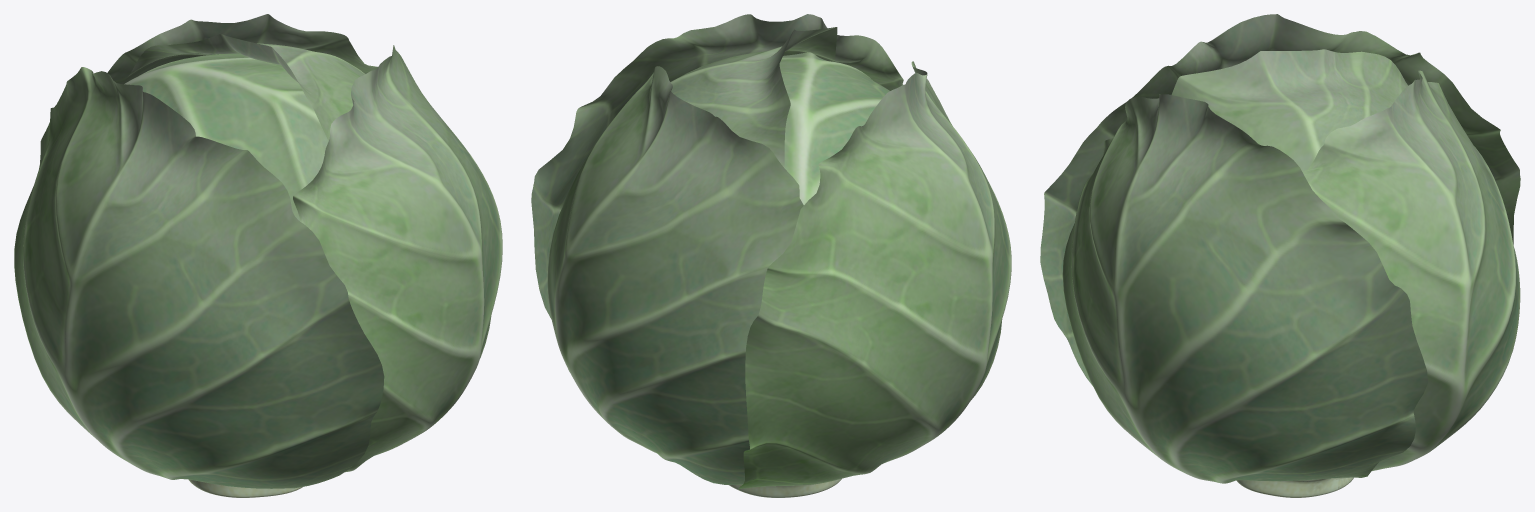
The model's file is GreenVegetableCabbage03.fbx.
3 views of the same model, side by side, from view 1: azimuth 30°, elevation 25°; view 2: azimuth 150°, elevation 25°; view 3: azimuth 270°, elevation 25° (orthographic). The views are drawn at different scales.
Parts seen in each view (by area): view 1: Cabbage03; view 2: Cabbage03; view 3: Cabbage03.
Part boxes in pixels (left/top/right/bottom): Cabbage03: left=14, top=14, right=502, bottom=497; Cabbage03: left=531, top=14, right=1011, bottom=497; Cabbage03: left=1040, top=14, right=1520, bottom=497.
Size of the model in its own units: 0.1863 by 0.1911 by 0.1861.
1 material, 1 textured.
